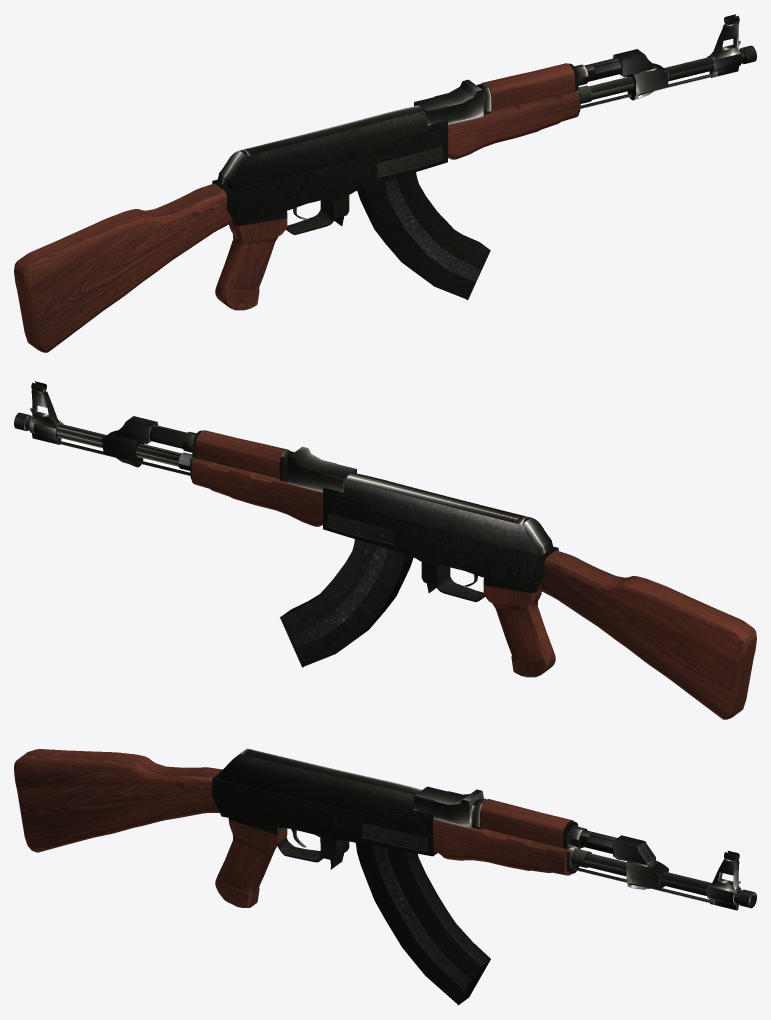
The model's file is VerzatileAK.fbx.
The picture shows the model from 3 angles, top to bottom: view 1: azimuth 30°, elevation 25°; view 2: azimuth 150°, elevation 25°; view 3: azimuth 330°, elevation 25°; orthographic projection.
Parts seen in each view (by area): view 1: Cylinder.025, Cylinder.014; view 2: Cylinder.025, Cylinder.014; view 3: Cylinder.025, Cylinder.014.
Part boxes in pixels (left/top/right/bottom): Cylinder.025: left=14, top=14, right=756, bottom=352; Cylinder.014: left=357, top=172, right=490, bottom=300; Cylinder.025: left=14, top=381, right=756, bottom=719; Cylinder.014: left=280, top=539, right=413, bottom=667; Cylinder.025: left=14, top=748, right=756, bottom=910; Cylinder.014: left=355, top=842, right=490, bottom=1005.
Size of the model in its own units: 133 by 37.23 by 4.78.
8 materials, 8 textured.
